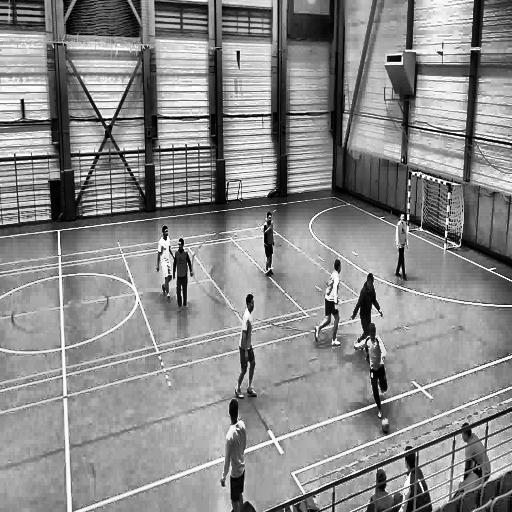ball: (380, 417, 390, 435)
player: (353, 321, 388, 418), (220, 400, 246, 509), (351, 273, 384, 356), (314, 256, 343, 348), (235, 292, 258, 400), (172, 237, 194, 314), (157, 224, 176, 303), (393, 212, 409, 281), (264, 210, 275, 279)
